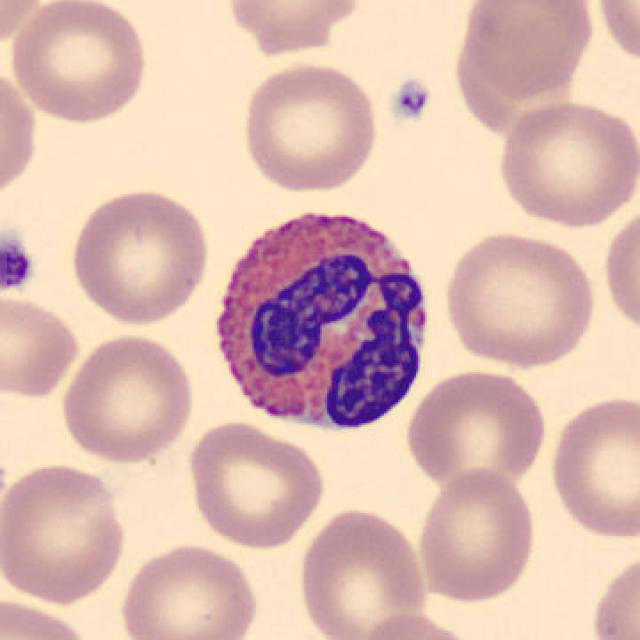Eosinophil: (197, 194, 439, 444)
Platelets: (0, 231, 37, 296), (388, 76, 433, 125)
RBC: (439, 228, 601, 370), (66, 184, 213, 326), (236, 58, 382, 196), (183, 418, 329, 552), (57, 330, 199, 466), (492, 97, 638, 229), (0, 458, 130, 606), (402, 365, 549, 494), (295, 502, 432, 640), (5, 0, 153, 125), (412, 465, 540, 605), (115, 539, 261, 640), (455, 0, 599, 102), (544, 390, 638, 543), (0, 291, 82, 400), (220, 0, 367, 56), (0, 62, 41, 208), (599, 198, 638, 340), (587, 545, 638, 640), (0, 594, 96, 640), (354, 610, 478, 640), (592, 0, 638, 71), (0, 0, 52, 53)
